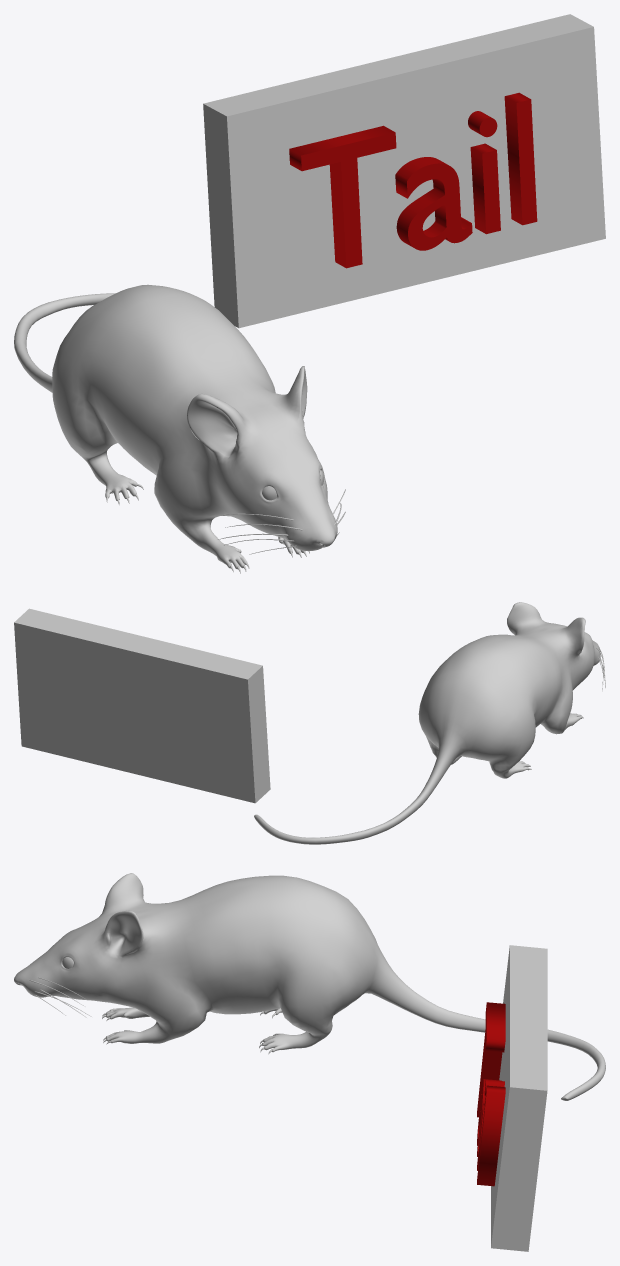
The picture shows the model from 3 angles, top to bottom: view 1: azimuth 30°, elevation 25°; view 2: azimuth 150°, elevation 25°; view 3: azimuth 270°, elevation 25°; orthographic projection. The views are drawn at different scales.
Bounding box in the file's own units: 1.93 × 0.5889 × 1.89.
